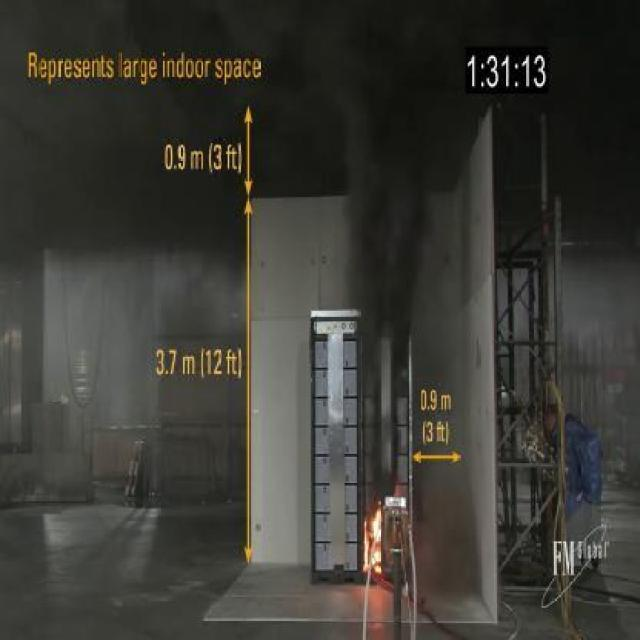fire: (321, 69, 454, 300)
smoke: (361, 497, 388, 577)
